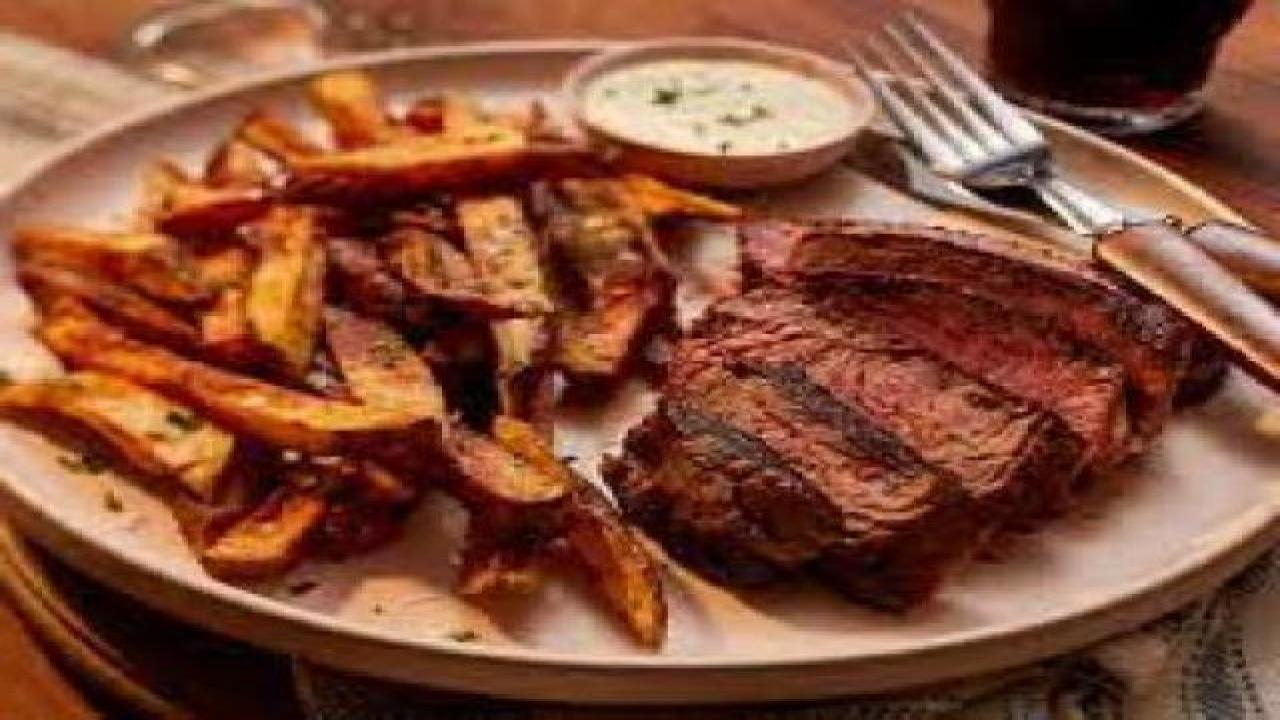done: (644, 203, 1226, 562)
